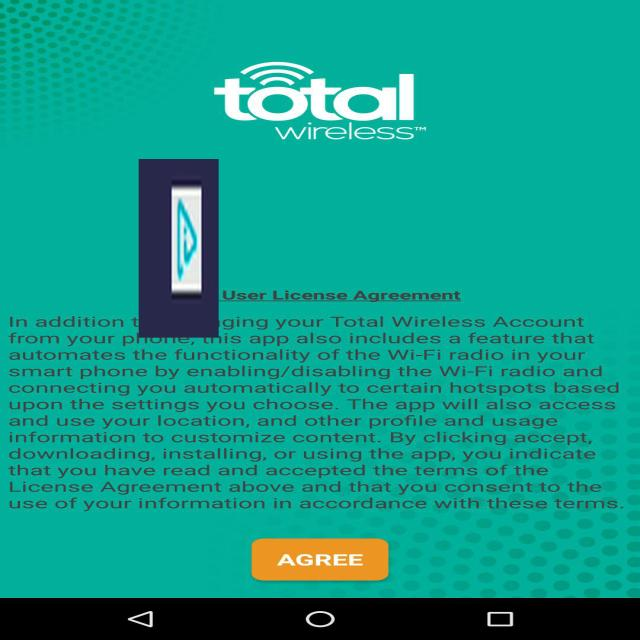sneaking: (138, 159, 218, 338)
